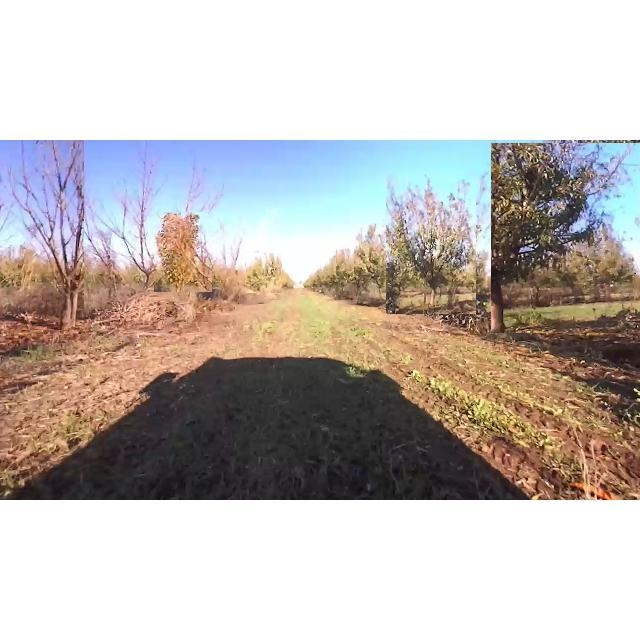direk: (491, 143, 640, 333), (0, 140, 84, 330), (386, 173, 476, 314), (107, 156, 171, 294), (70, 188, 122, 308), (154, 212, 212, 292), (356, 218, 384, 306), (246, 253, 282, 293), (336, 248, 354, 300)
